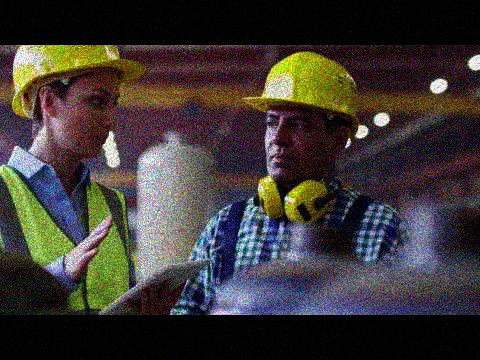helmet: (241, 50, 358, 181), (11, 46, 145, 160)
